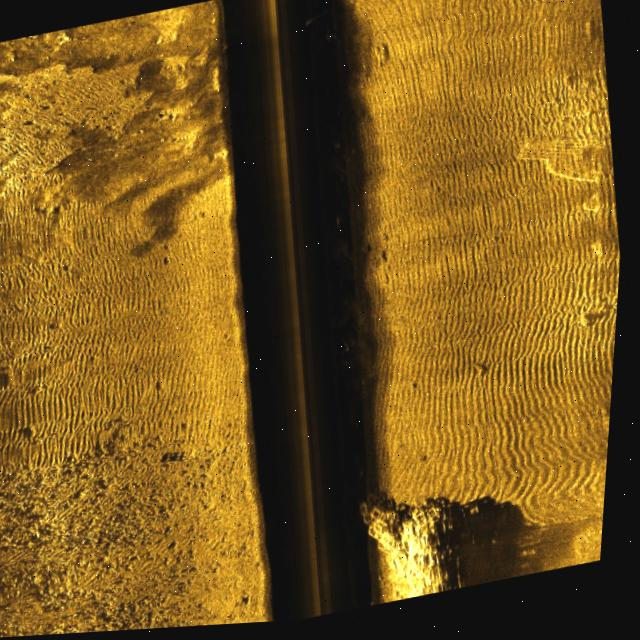artificial reef: (354, 475, 490, 613)
